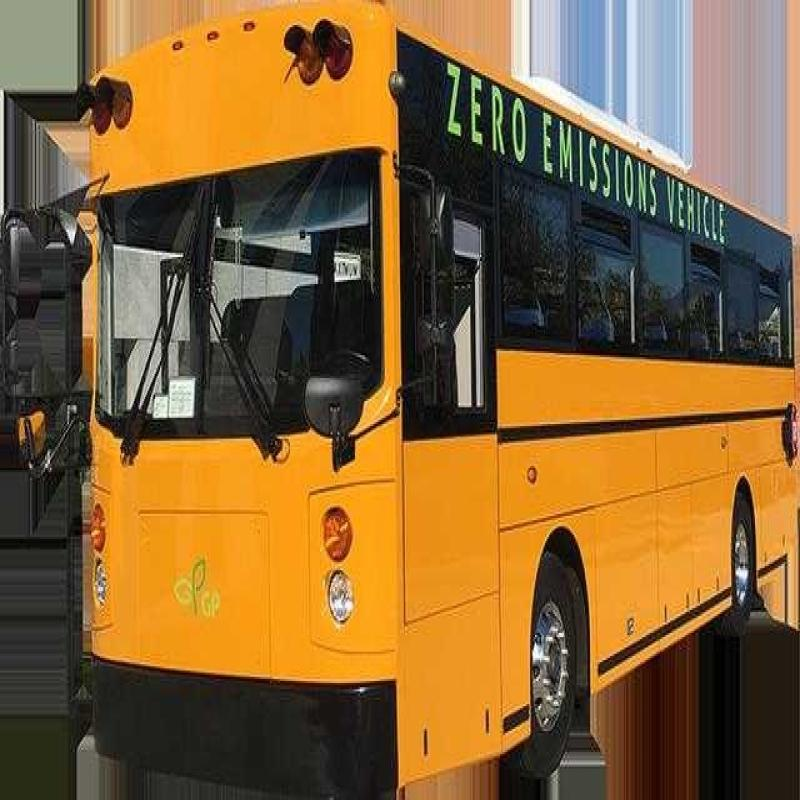bus: (64, 20, 800, 789)
